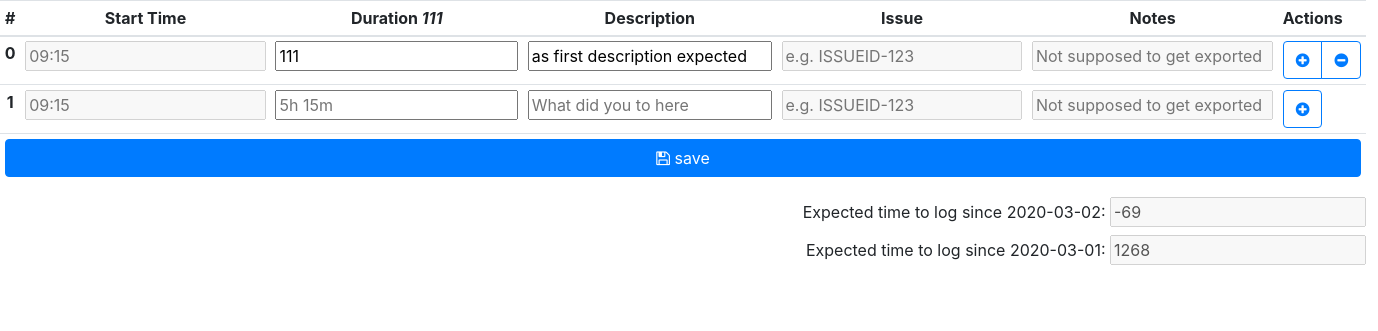
Test: TimelogDayView › Add element › should add automatically a timelog at the end if any input value exist on the last element
Expected: the column heading titled "TimeLog 1" is shown, [0,85,20,133]
Type "a" into the field titled "description".
click(650, 105); type("a")  # box [528,90,772,120]
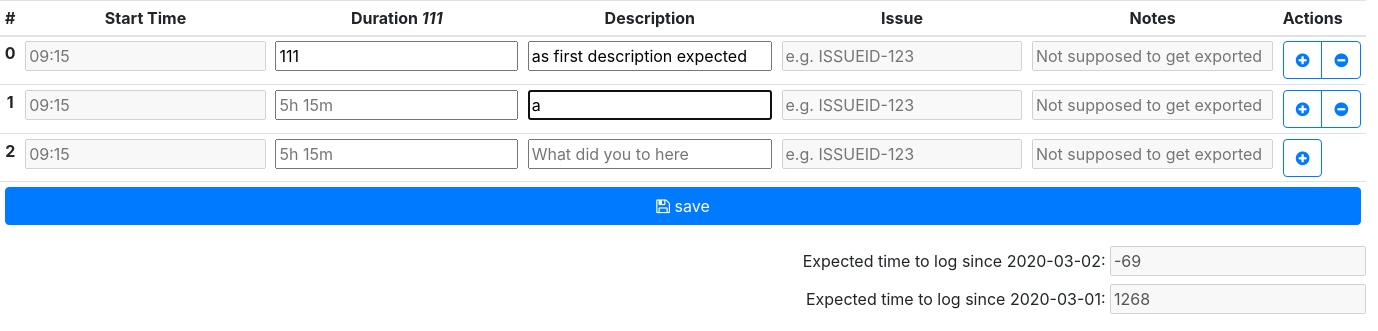
Now the column heading titled "TimeLog 2" is shown, box [0,133,20,182]
